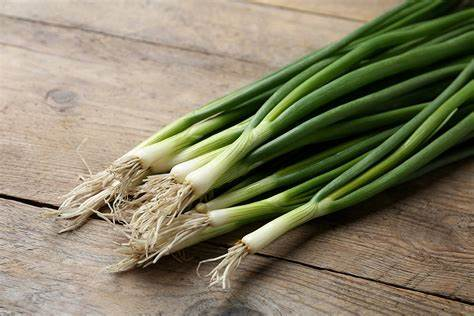Green Onion: (46, 0, 474, 295)
